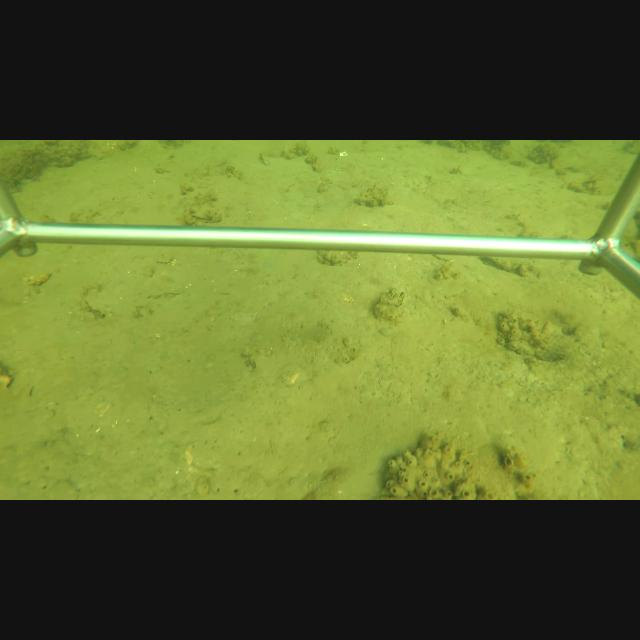Oyster-Open: (189, 208, 223, 223)
